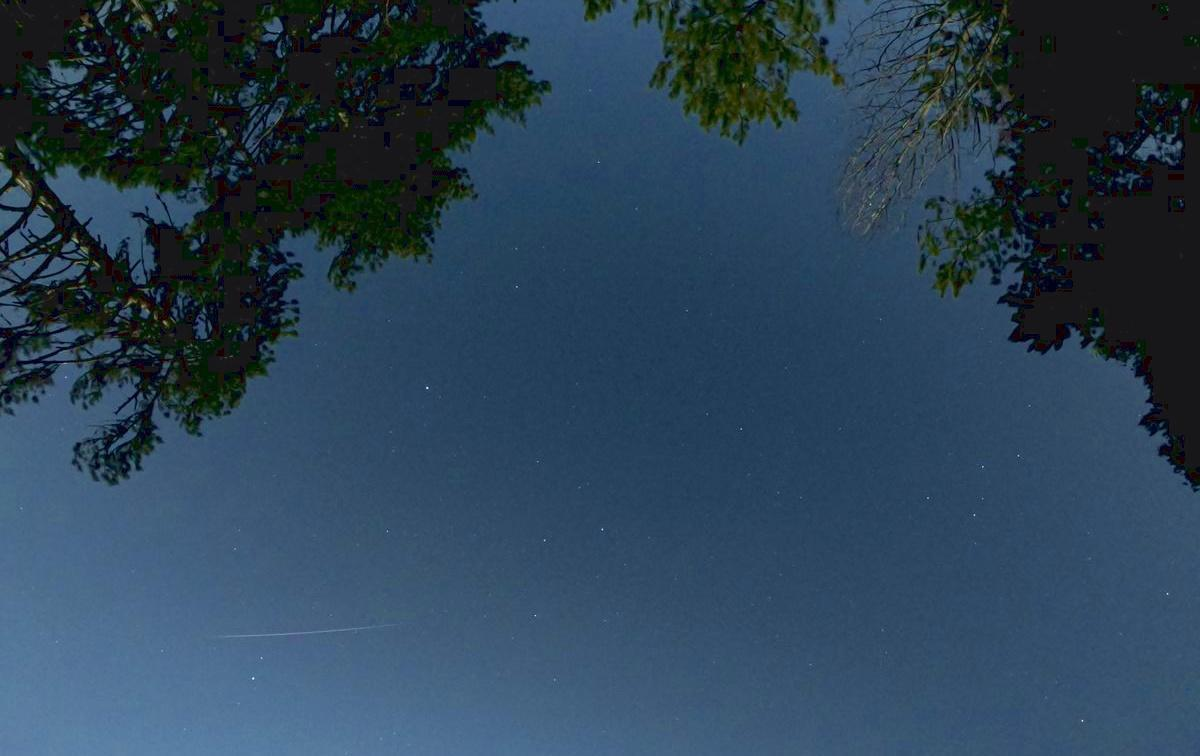meteorite: (226, 610, 416, 651)
